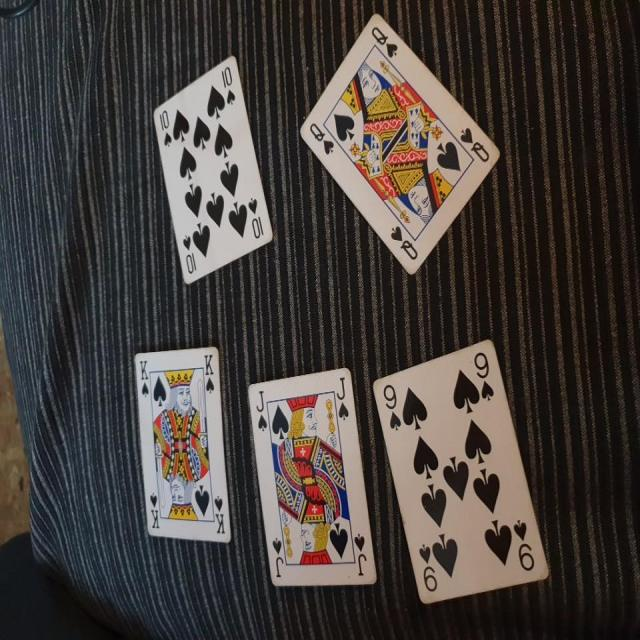10 Spades: (152, 51, 278, 292)
9 Spades: (364, 332, 552, 600)
J Spades: (242, 365, 382, 594)
K Spades: (129, 341, 233, 548)
Q Spades: (293, 12, 500, 286)
